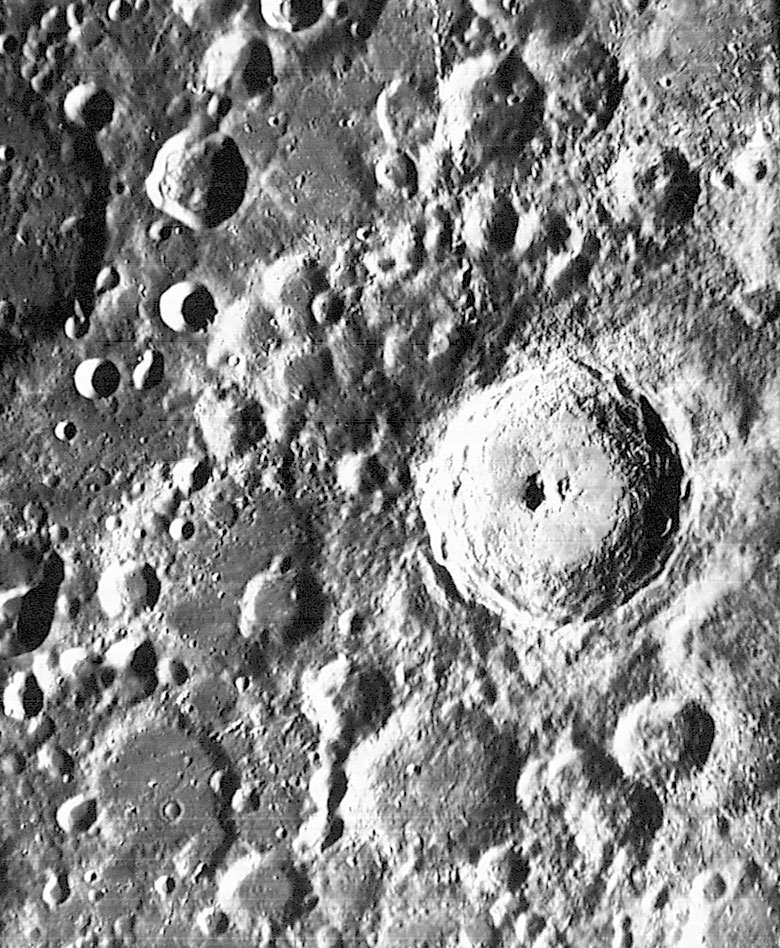crater: (372, 314, 747, 655), (68, 678, 243, 886), (128, 111, 287, 256), (588, 670, 757, 805), (271, 648, 402, 745), (124, 261, 262, 347)
